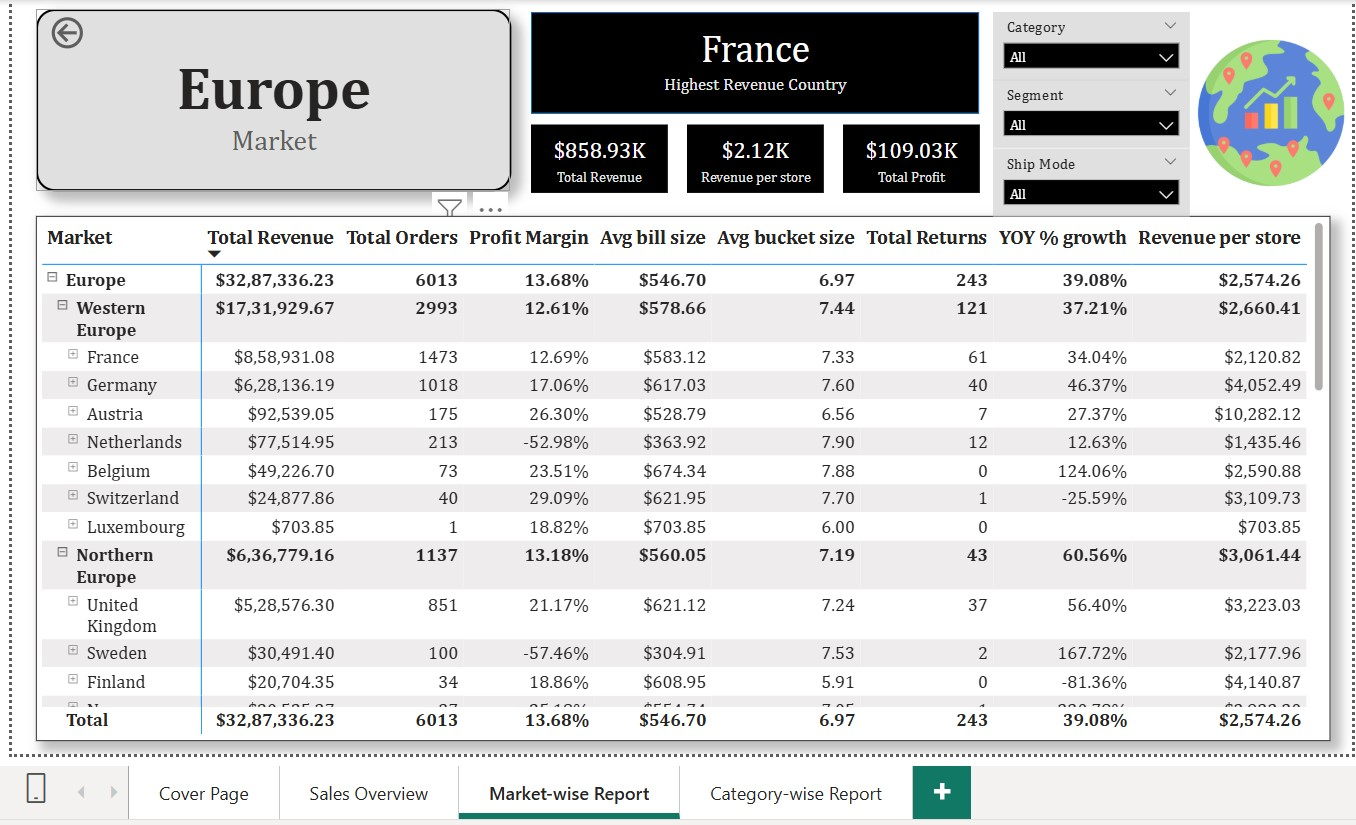

What the dashboard file says about the page in this screenshot:
{"tool":"powerbi","page":{"name":"Market-wise Report","canvas":[1280,720],"ordinal":2},"visuals":[{"type":"shape","box":[496.3,11.1,427.9,97],"z":0},{"type":"card","fields":{"Values":["Min(Superstore data.Market)"]},"box":[22.3,8.1,453.7,174.2],"z":1000},{"type":"pivotTable","fields":{"Values":["Superstore data.Total Revenue","Superstore data.Total Orders","Superstore data.Profit Margin","Superstore data.Average bill size","Superstore data.Average bucket size","Returns.Total Returns","Superstore data.YOY % growth","Superstore data.Top Country Revenue/store"],"Rows":["Superstore data.Market Hierarchy.Market","Superstore data.Market Hierarchy.Region","Superstore data.Market Hierarchy.Country","Superstore data.Market Hierarchy.City"]},"box":[22.3,206.8,1235.9,501],"z":2000},{"type":"card","fields":{"Values":["Superstore data.Top Revenue Country"]},"box":[496.3,11.1,427.9,85.9],"z":3000},{"type":"card","fields":{"Values":["Superstore data.Total Revenue"]},"box":[496.3,119.3,130.4,65.2],"z":4000},{"type":"card","fields":{"Values":["Superstore data.Revenue per store"]},"box":[645,119.3,130.4,65.2],"z":5000},{"type":"image","box":[1124.6,8,155.9,198.8],"z":6000},{"type":"card","fields":{"Values":["Superstore data.Total Profit"]},"box":[793.7,119.3,130.4,65.2],"z":7000},{"type":"slicer","fields":{"Values":["Superstore data.Category"]},"box":[936.9,11.1,187.7,65.2],"z":8000},{"type":"slicer","fields":{"Values":["Superstore data.Segment"]},"box":[936.9,76.3,187.7,65.2],"z":9000},{"type":"slicer","fields":{"Values":["Superstore data.Ship Mode"]},"box":[936.9,141.6,187.7,65.2],"z":10000},{"type":"actionButton","box":[33.4,11.1,44.5,39.8],"z":11000}]}

Visuals, with their boxes in screenshot pixels (x1, y1, x2, y2):
shape: {"left": 529, "top": 12, "right": 976, "bottom": 113}
card - Min(Superstore data.Market): {"left": 34, "top": 8, "right": 508, "bottom": 190}
pivotTable - Superstore data.Total Revenue x Superstore data.Total Orders: {"left": 34, "top": 216, "right": 1325, "bottom": 739}
card - Superstore data.Top Revenue Country: {"left": 529, "top": 12, "right": 976, "bottom": 101}
card - Superstore data.Total Revenue: {"left": 529, "top": 125, "right": 665, "bottom": 193}
card - Superstore data.Revenue per store: {"left": 684, "top": 125, "right": 821, "bottom": 193}
image: {"left": 1185, "top": 8, "right": 1348, "bottom": 216}
card - Superstore data.Total Profit: {"left": 840, "top": 125, "right": 976, "bottom": 193}
slicer - Superstore data.Category: {"left": 989, "top": 12, "right": 1185, "bottom": 80}
slicer - Superstore data.Segment: {"left": 989, "top": 80, "right": 1185, "bottom": 148}
slicer - Superstore data.Ship Mode: {"left": 989, "top": 148, "right": 1185, "bottom": 216}
actionButton: {"left": 45, "top": 12, "right": 92, "bottom": 53}
